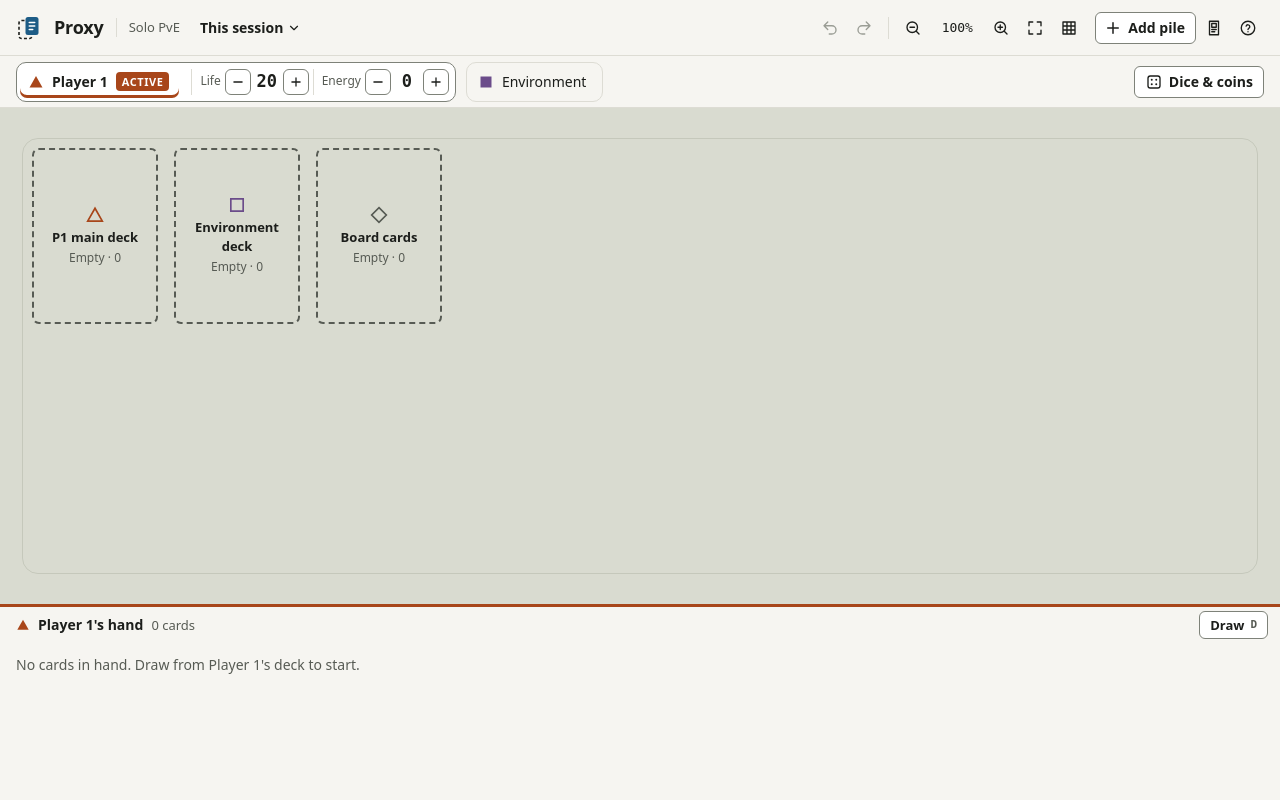
TT-13 seat counters › steps with the buttons and announces each change
This screenshot has width=1280, height=800.
Click the button named "Decrease Player 1 Life".
click(238, 82)  # box [225,68,251,94]
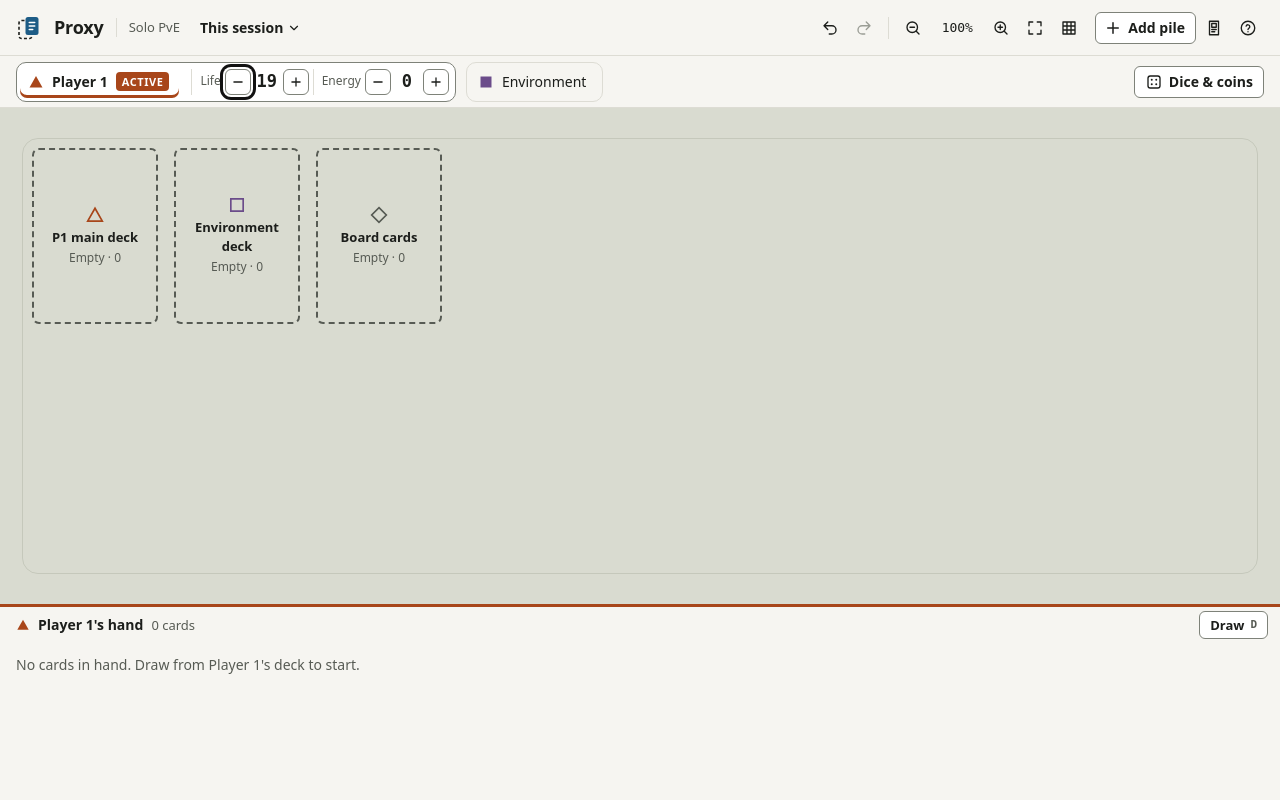
Result: the element named "Player 1 Life" shows "19" at [256,71,277,91]
Click the button named "Increase Player 1 Energy".
click(436, 82)  # box [423,68,449,94]
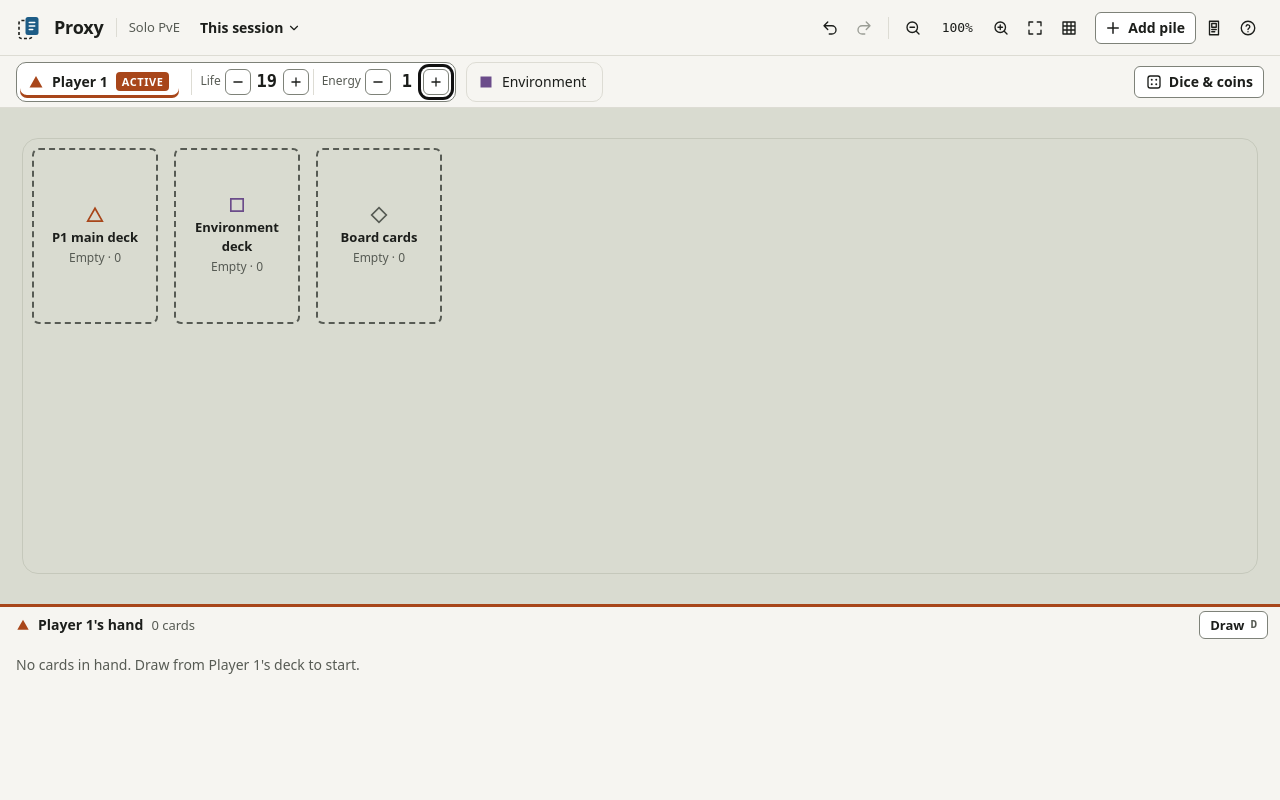
Result: the element named "Player 1 Energy" shows "1" at [402,71,412,91]
